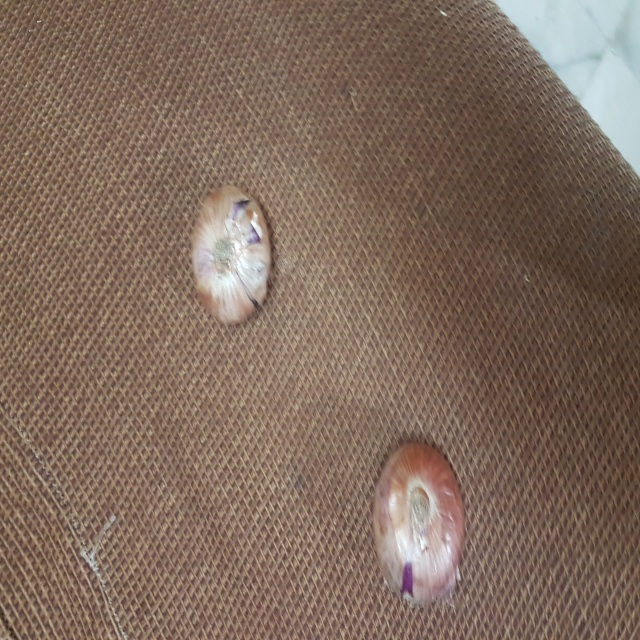onion: (365, 432, 477, 612), (182, 182, 277, 331)
